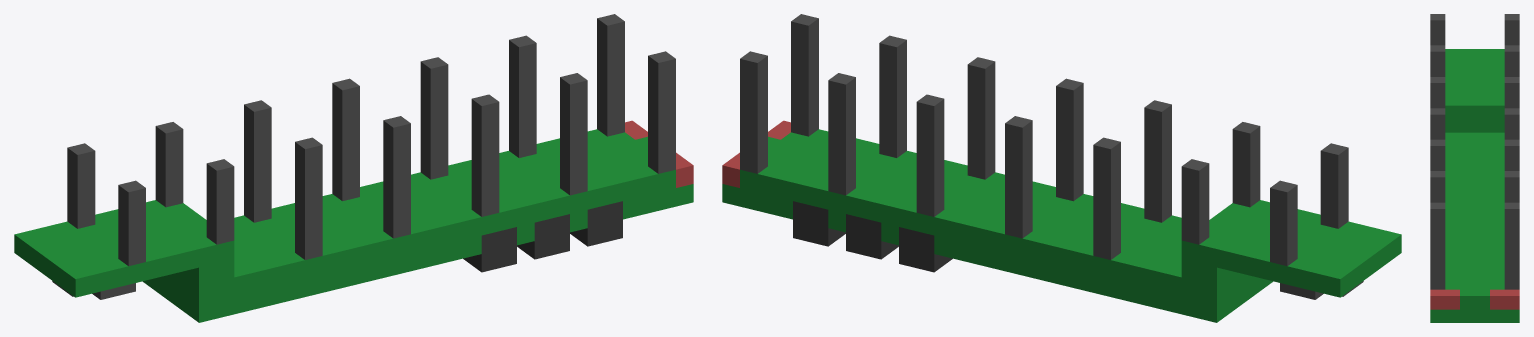
The model's file is semitrailer-v3-green.gltf.
The picture shows the model from 3 angles, left to right: view 1: azimuth 30°, elevation 25°; view 2: azimuth 150°, elevation 25°; view 3: azimuth 270°, elevation 25°; orthographic projection. The views are drawn at different scales.
Visible parts, largest first — view 1: model, wheels; view 2: model, wheels; view 3: model.
Part boxes in pixels (x1,y1,x2,y2): model: (14, 14, 693, 322); wheels: (463, 201, 622, 272); model: (722, 14, 1401, 322); wheels: (793, 201, 952, 272); model: (1430, 14, 1519, 322).
Size of the model in its own units: 3.5 by 0.9 by 0.6.
Materials: 2 (2 with a texture image).
